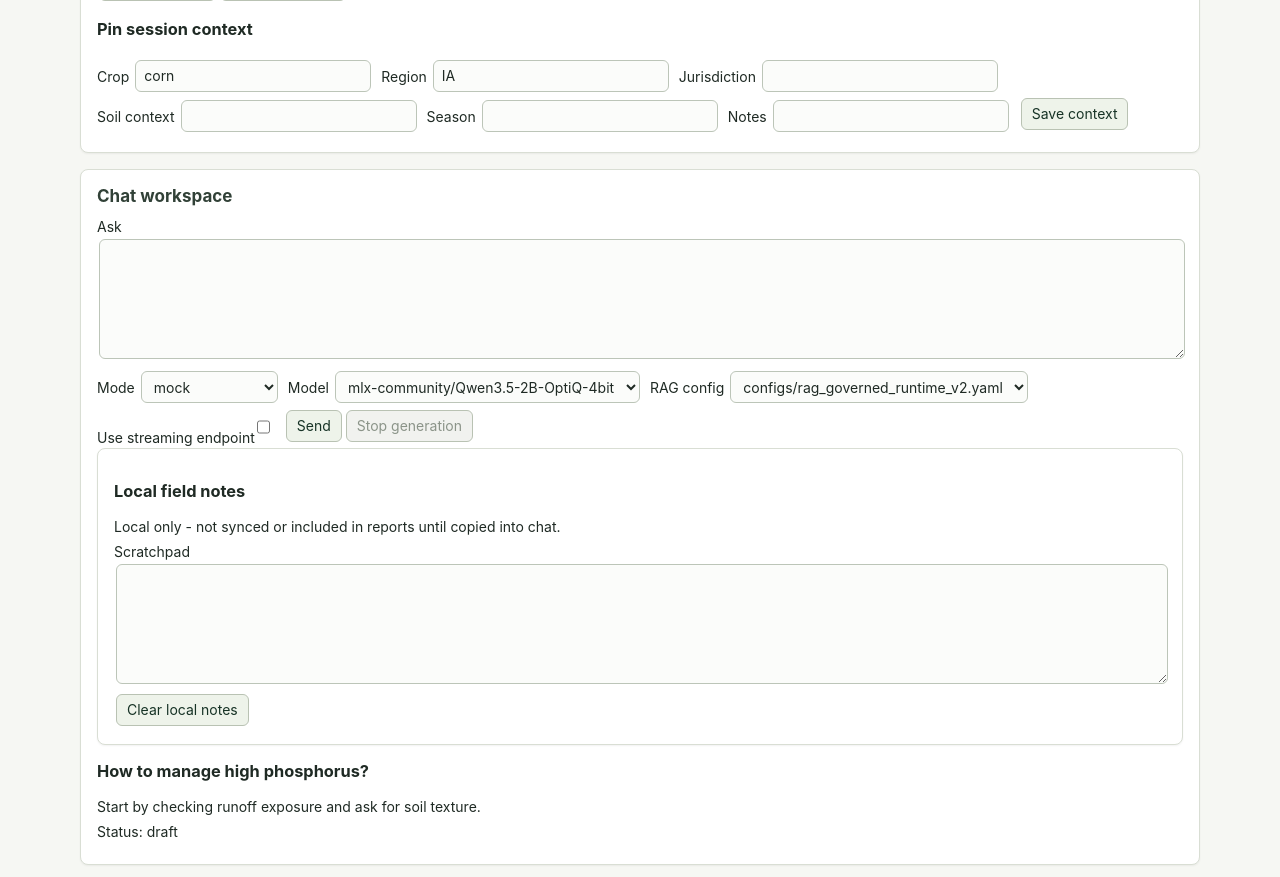
Test: cockpit app › streams turn answer when streaming checkbox is enabled
The width and height of the screenshot is (1280, 877).
(page scrolled)
Click the checkbox with test id "streaming-enabled" at point(263, 427), box [257,411,270,443]
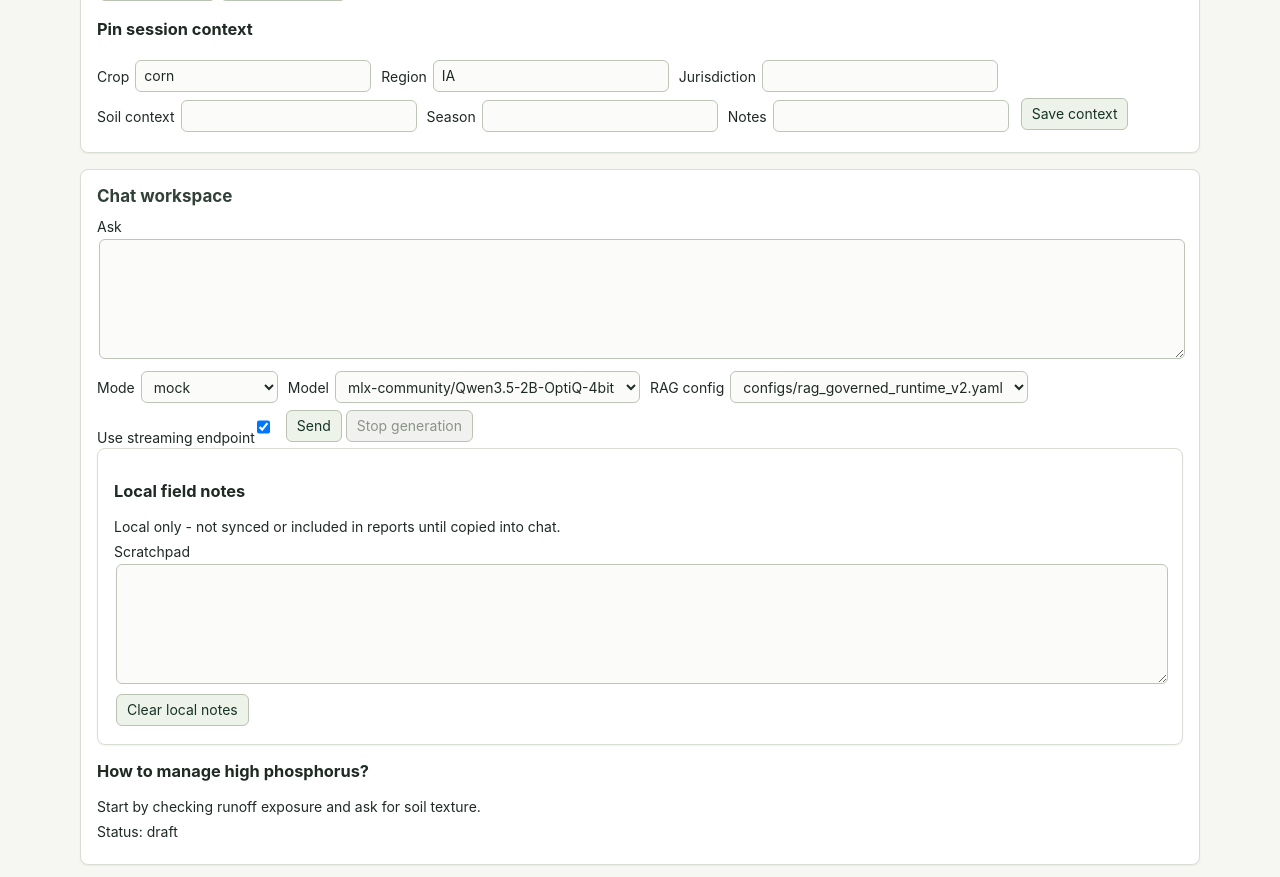
Select "mock" in the dropdown with test id "mode-select" at point(209, 387), box [141,371,278,403]
Type "How to check runoff risk?" into the text box with test id "chat-input" at point(642, 299), box [99,239,1185,359]
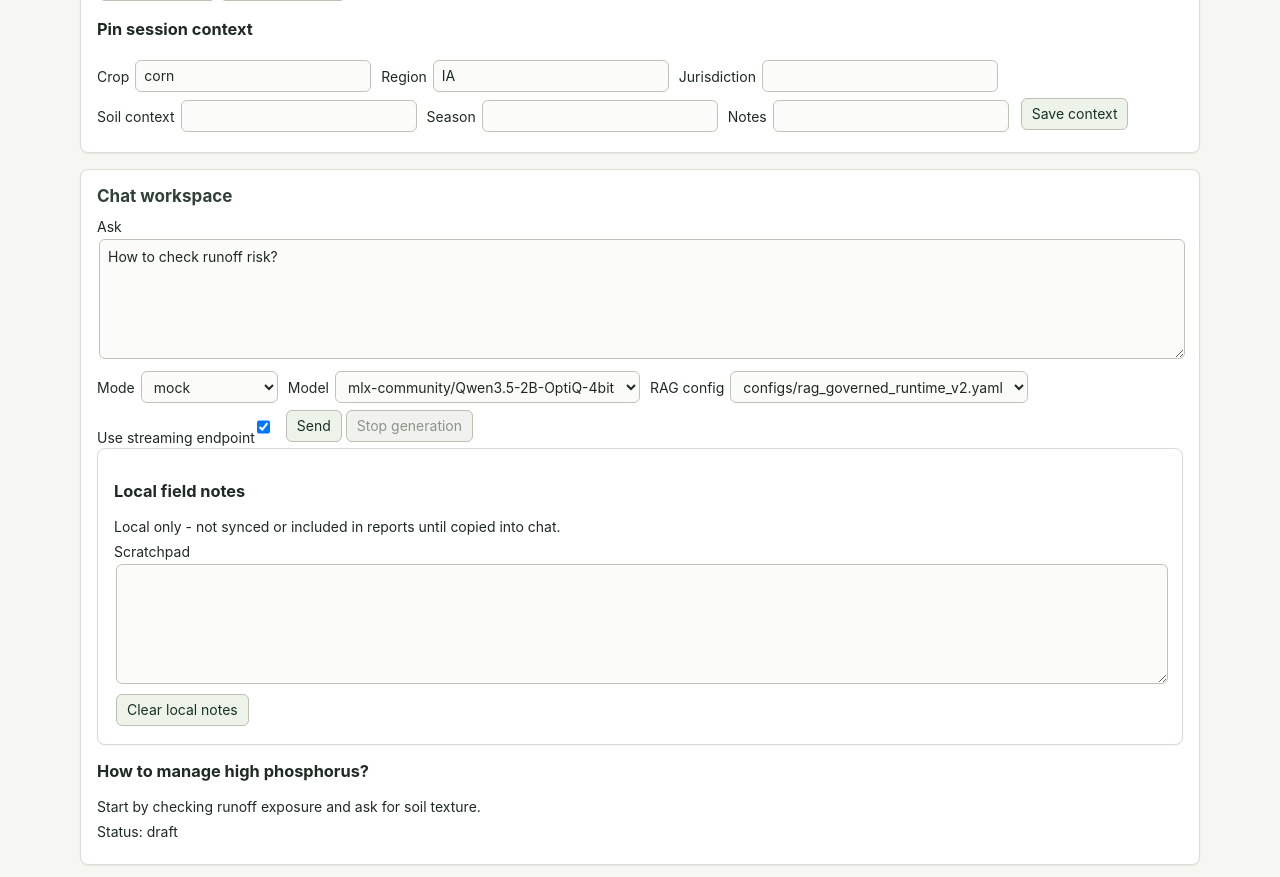
Click the button with test id "send-turn" at point(314, 426), box [286,410,342,442]
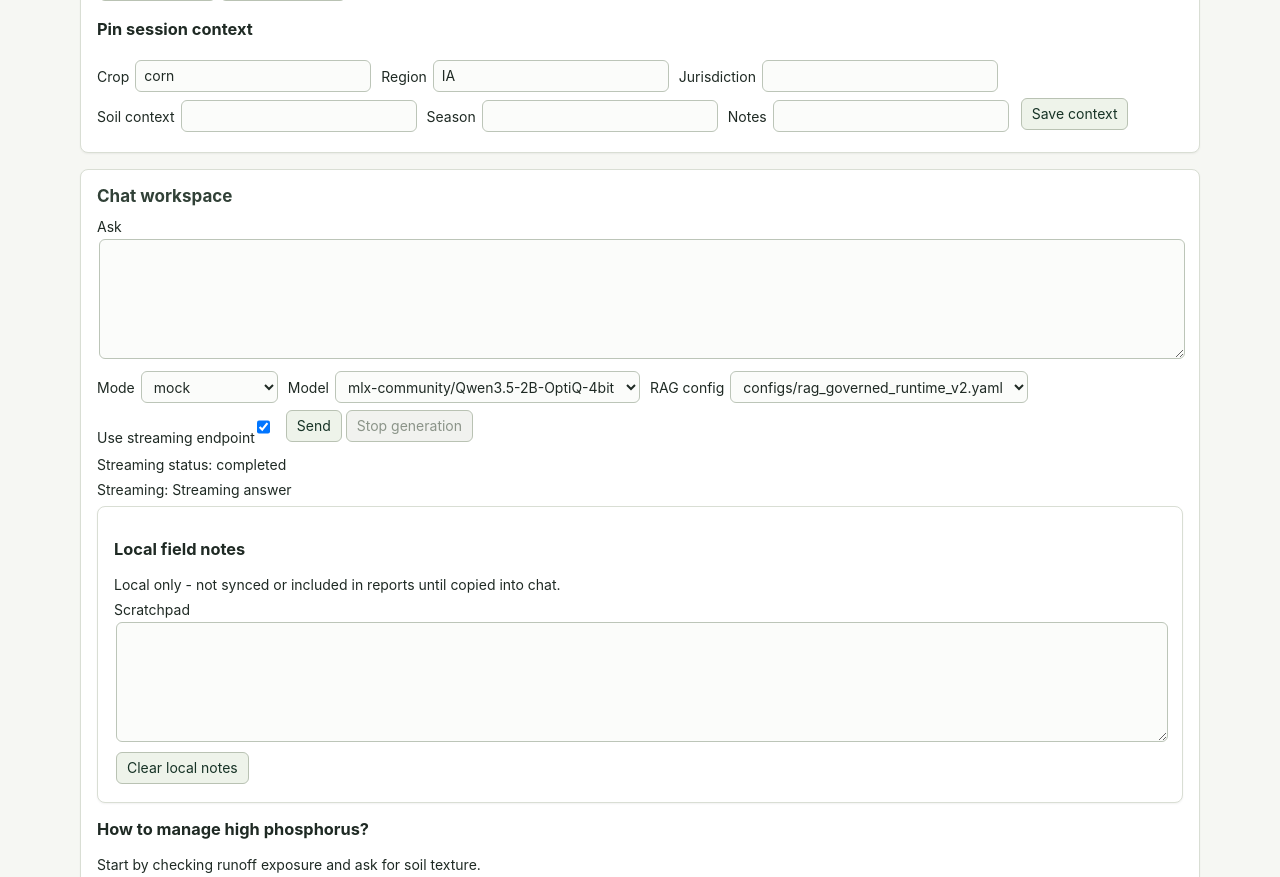
Expected: the button with test id "cancel-streaming" is disabled, [346,410,473,442]
Expected: the text with test id "streaming-answer" shows "Streaming answer", [172,481,292,498]
Expected: the text with test id "streaming-status" shows "completed", [216,456,286,473]
